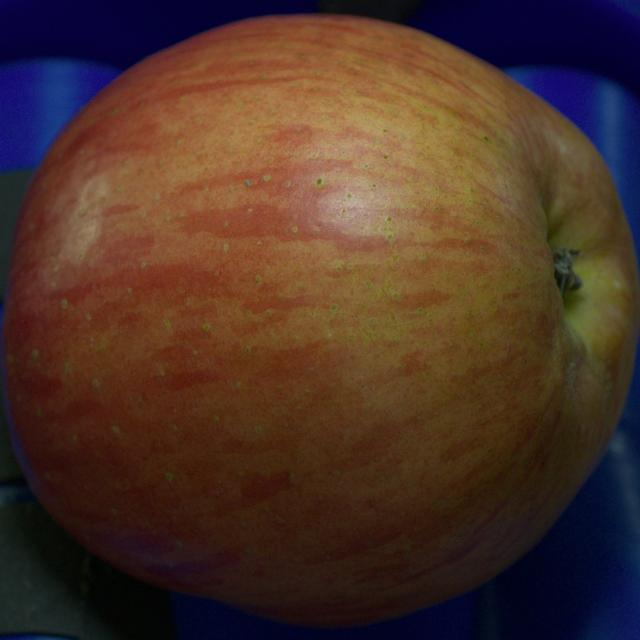apple: (0, 16, 639, 626)
